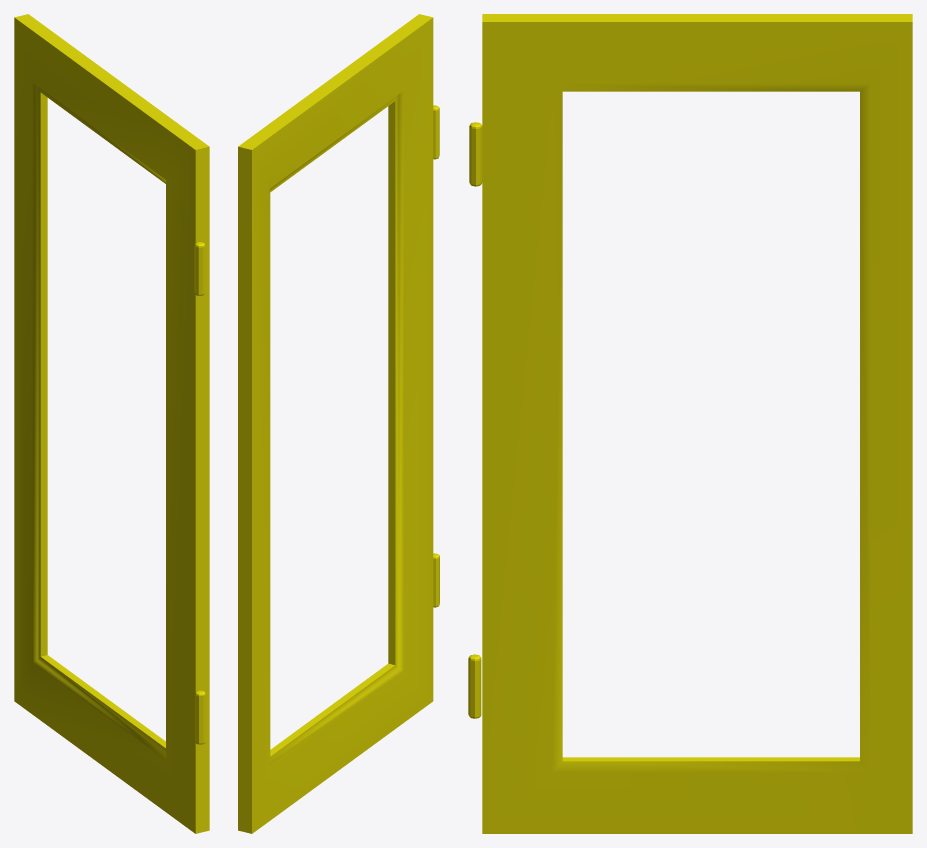
File: Window_Right.fbx
The picture shows the model from 3 angles, left to right: view 1: azimuth 30°, elevation 25°; view 2: azimuth 150°, elevation 25°; view 3: azimuth 270°, elevation 25°; orthographic projection. The views are drawn at different scales.
Visible parts, largest first — view 1: Window_Right; view 2: Window_Right; view 3: Window_Right.
Part boxes in pixels (bbox=[...]): Window_Right: bbox=[14, 14, 209, 833]; Window_Right: bbox=[238, 14, 439, 833]; Window_Right: bbox=[468, 14, 912, 833].
Bounding box in the file's own units: 5.14 × 198 × 97.97.
